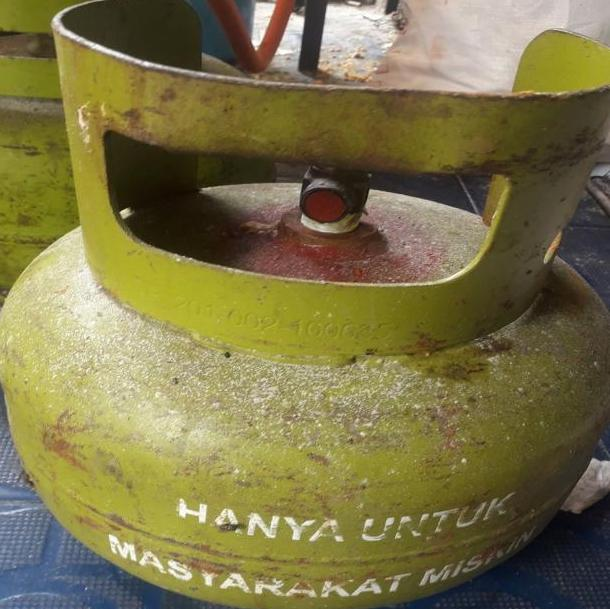cylinder: (1, 1, 610, 609)
